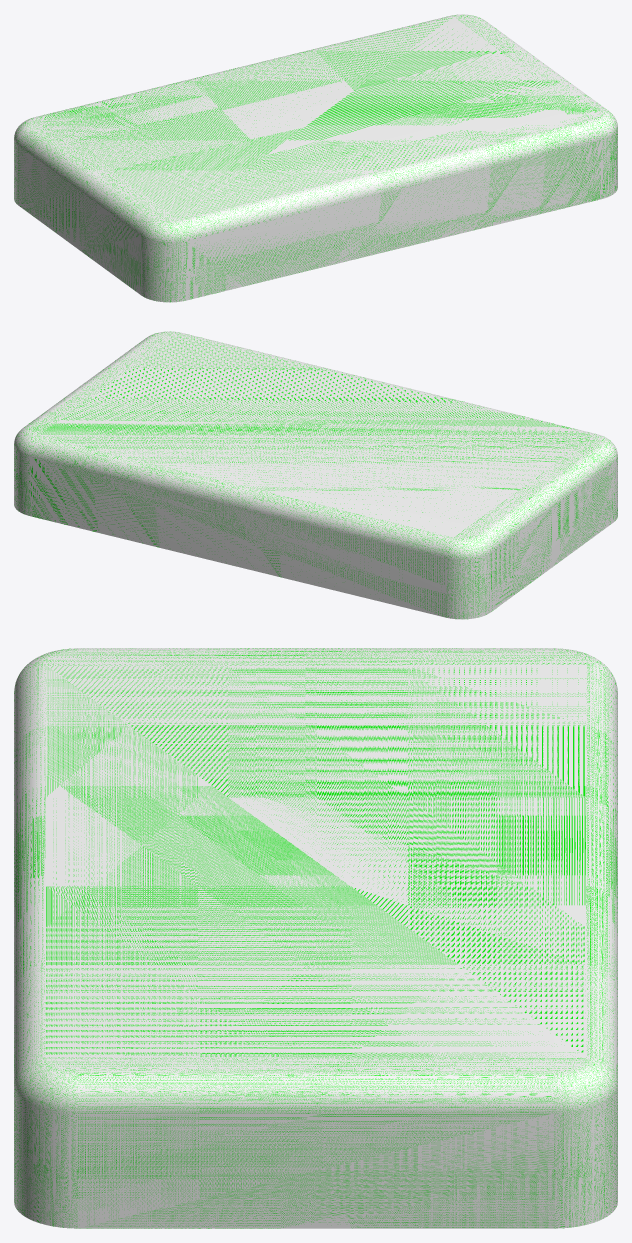
The model's file is original-72.obj.
The picture shows the model from 3 angles, top to bottom: view 1: azimuth 30°, elevation 25°; view 2: azimuth 150°, elevation 25°; view 3: azimuth 270°, elevation 25°; orthographic projection. The views are drawn at different scales.
Visible parts, largest first — view 1: Component_11_12/Component_11/mesh7/mesh7-geometry#mesh7-geometry; view 2: Component_11_12/Component_11/mesh7/mesh7-geometry#mesh7-geometry; view 3: Component_11_12/Component_11/mesh7/mesh7-geometry#mesh7-geometry.
Part boxes in pixels (x1=…): Component_11_12/Component_11/mesh7/mesh7-geometry#mesh7-geometry: x1=14, y1=14, x2=617, y2=302; Component_11_12/Component_11/mesh7/mesh7-geometry#mesh7-geometry: x1=14, y1=331, x2=617, y2=619; Component_11_12/Component_11/mesh7/mesh7-geometry#mesh7-geometry: x1=14, y1=648, x2=617, y2=1228.
Size of the model in its own units: 0.0658 by 0.00989 by 0.0376.
